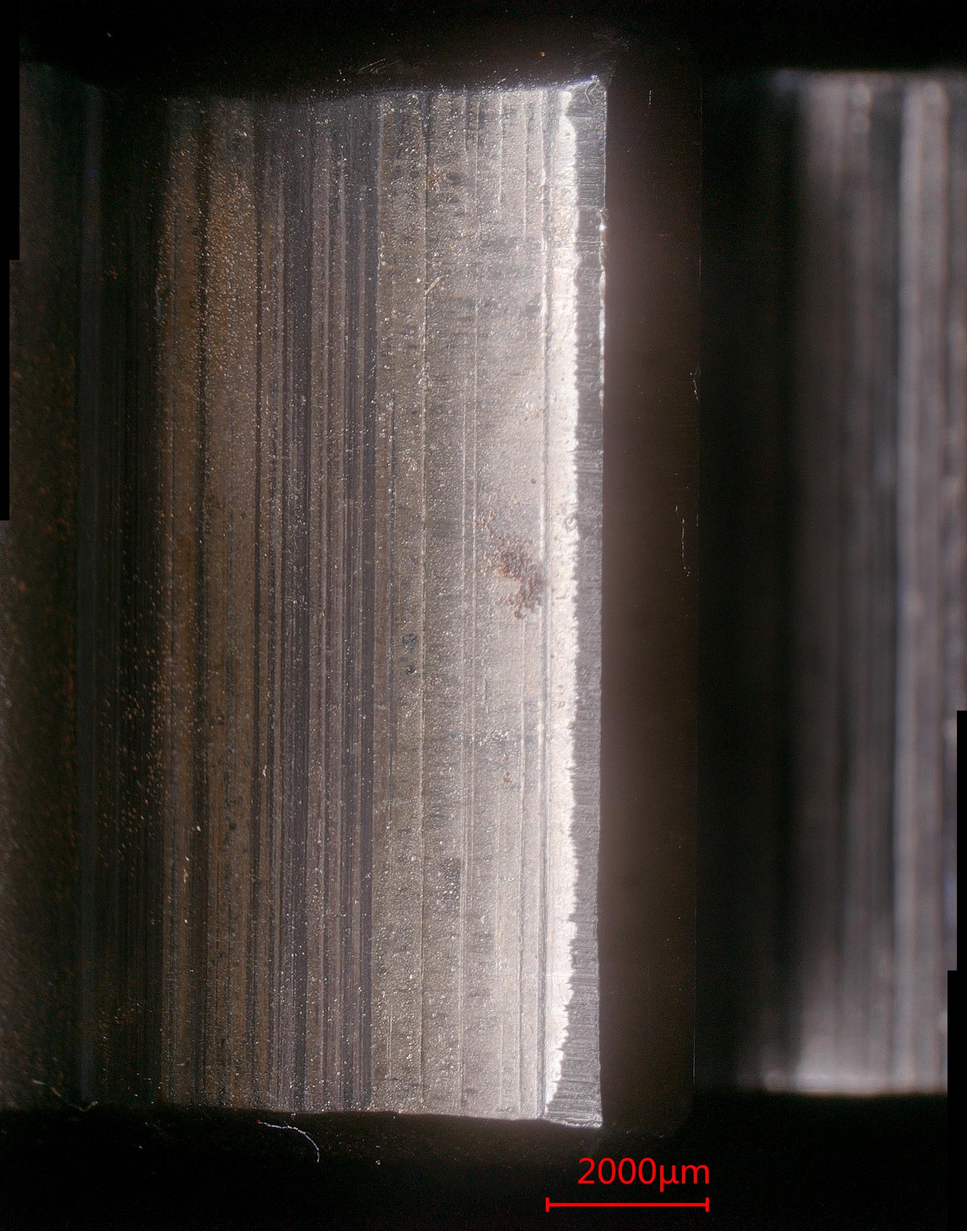Abrasion: (65, 91, 604, 1123)
